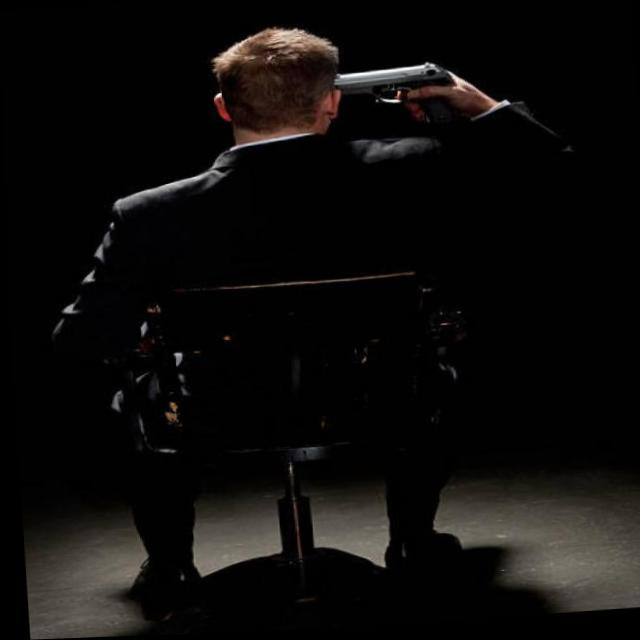no helmet: (200, 21, 348, 140)
